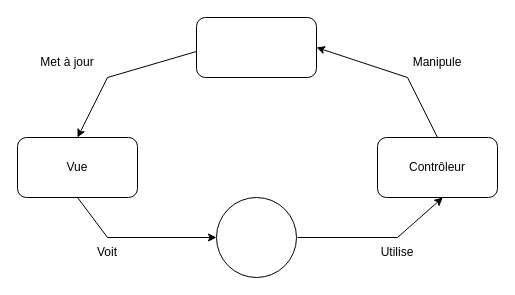
The diagram is 515 pixels wide and 295 high, and some of its shapes have lost their labels. The centre of each missing label's shape, as x and y in pixels:
"Modèle" goes at point 256,47.
"Utilisateur" goes at point 256,237.
